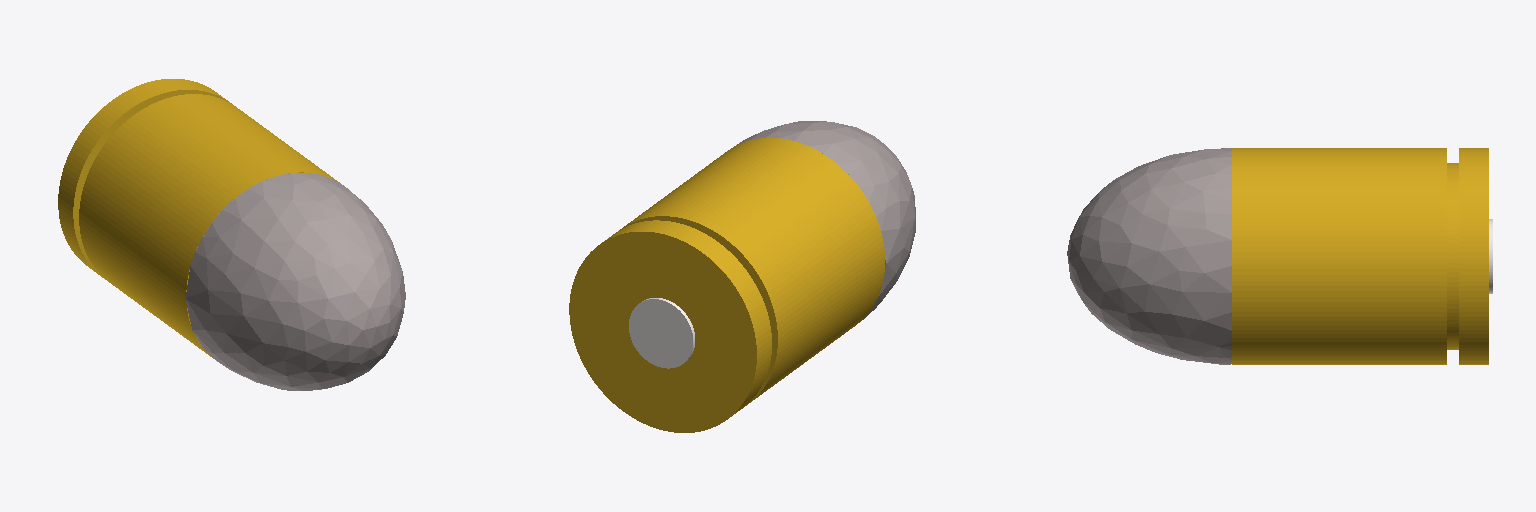
The model's file is ChonkyBulletLOWPOLY.obj.
3 renders of one model, left to right at view 1: azimuth 30°, elevation 25°; view 2: azimuth 150°, elevation 25°; view 3: azimuth 270°, elevation 25°, orthographic.
Visible parts, largest first — view 1: Object.4, Object.5, Object.1; view 2: Object.5, Object.1, Object.4, Object.2; view 3: Object.5, Object.4, Object.1, Object.3.
Boxes of the visible parts, <box> form: Object.4: <box>186,173,405,390</box>; Object.5: <box>79,94,347,356</box>; Object.1: <box>58,79,231,277</box>; Object.5: <box>620,138,884,405</box>; Object.1: <box>569,220,771,432</box>; Object.4: <box>734,121,915,319</box>; Object.2: <box>629,298,694,368</box>; Object.5: <box>1232,148,1446,364</box>; Object.4: <box>1067,148,1231,364</box>; Object.1: <box>1459,148,1488,364</box>; Object.3: <box>1447,163,1458,349</box>.
Bounding box in the file's own units: 40.21 × 40 × 78.6.